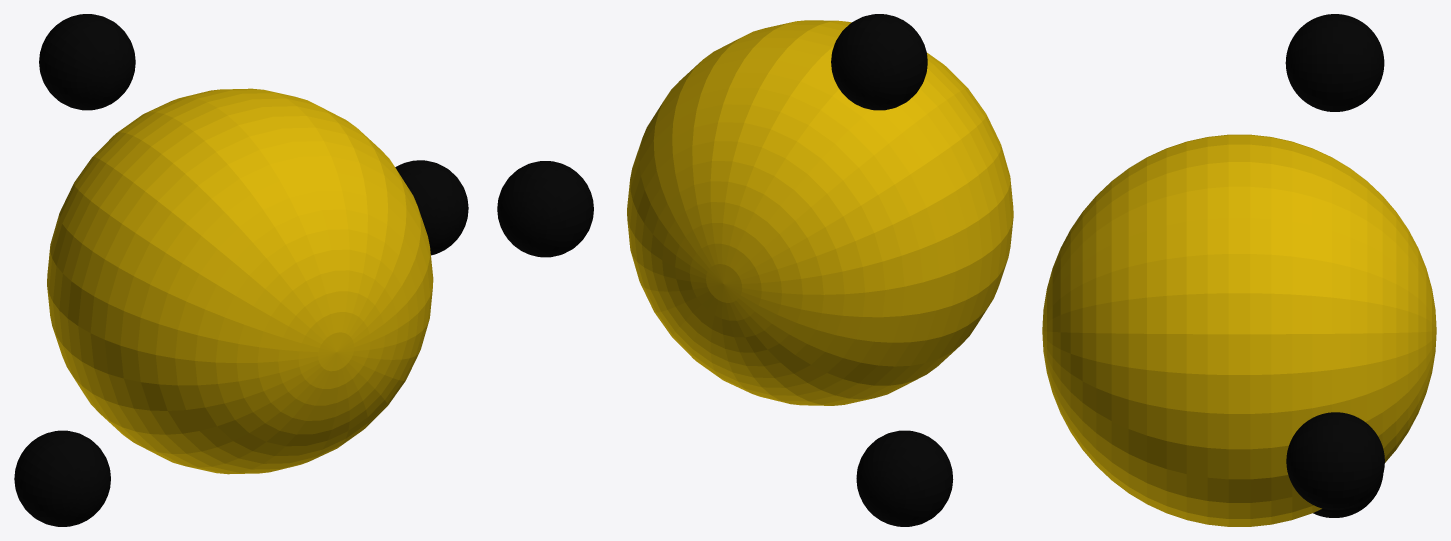
Rendered from Phosphine.glb.
3 views of the same model, side by side, from view 1: azimuth 30°, elevation 25°; view 2: azimuth 150°, elevation 25°; view 3: azimuth 270°, elevation 25° (orthographic). The views are drawn at different scales.
Parts seen in each view (by area): view 1: world; view 2: world; view 3: world.
Boxes of the visible parts, x1,y1,x2,y2 form: world: (14,14,468,526); world: (497,14,1013,526); world: (1042,14,1436,526).
Size of the model in its own units: 2.64 by 2.84 by 2.
